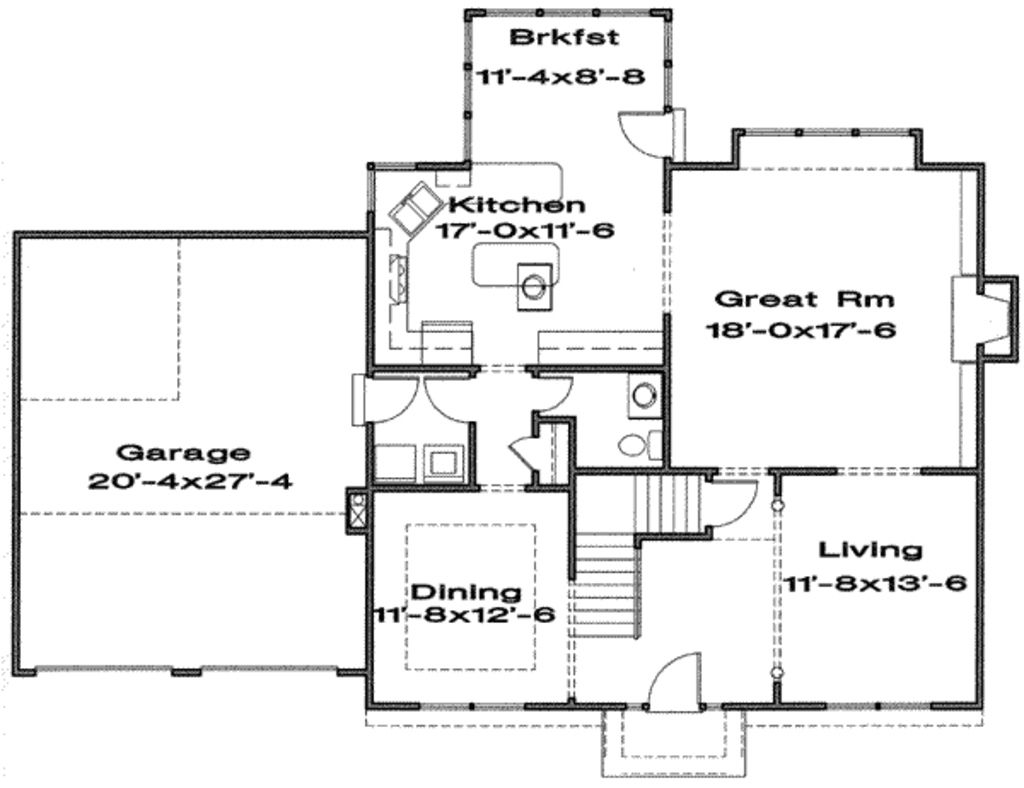door: (348, 367, 418, 432), (646, 647, 708, 712), (611, 106, 673, 163), (704, 472, 758, 527), (420, 376, 475, 423), (528, 370, 578, 411), (503, 431, 538, 473)
large_sink: (616, 421, 669, 464)
small_sink: (624, 370, 668, 417)
stairs: (565, 467, 703, 641)
twin_sink: (384, 180, 443, 239)
windows: (738, 123, 917, 144), (411, 693, 525, 718), (824, 699, 934, 716)
